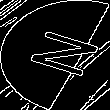N_SE: (11, 26, 99, 84)
